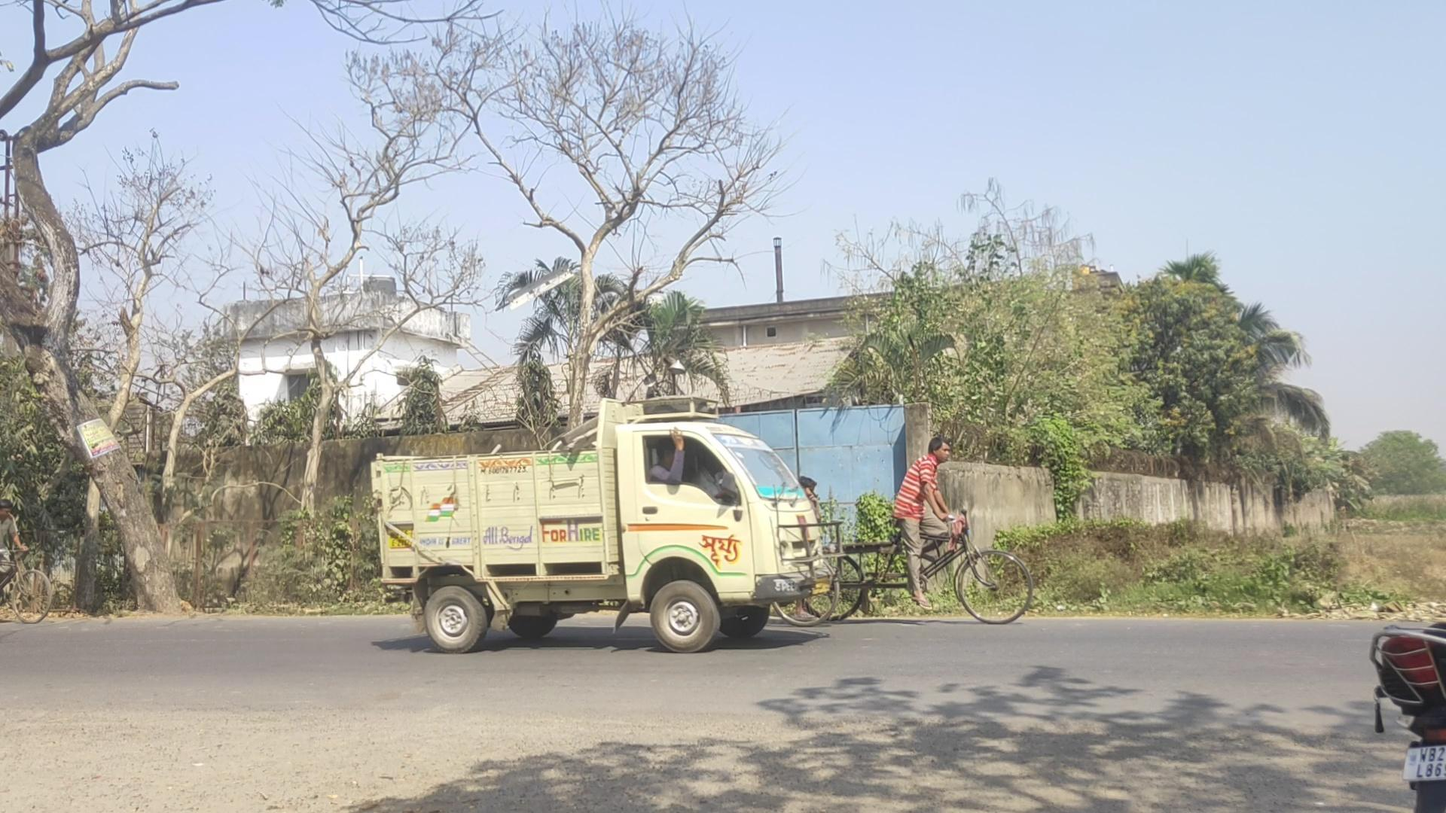van: (371, 393, 844, 655)
